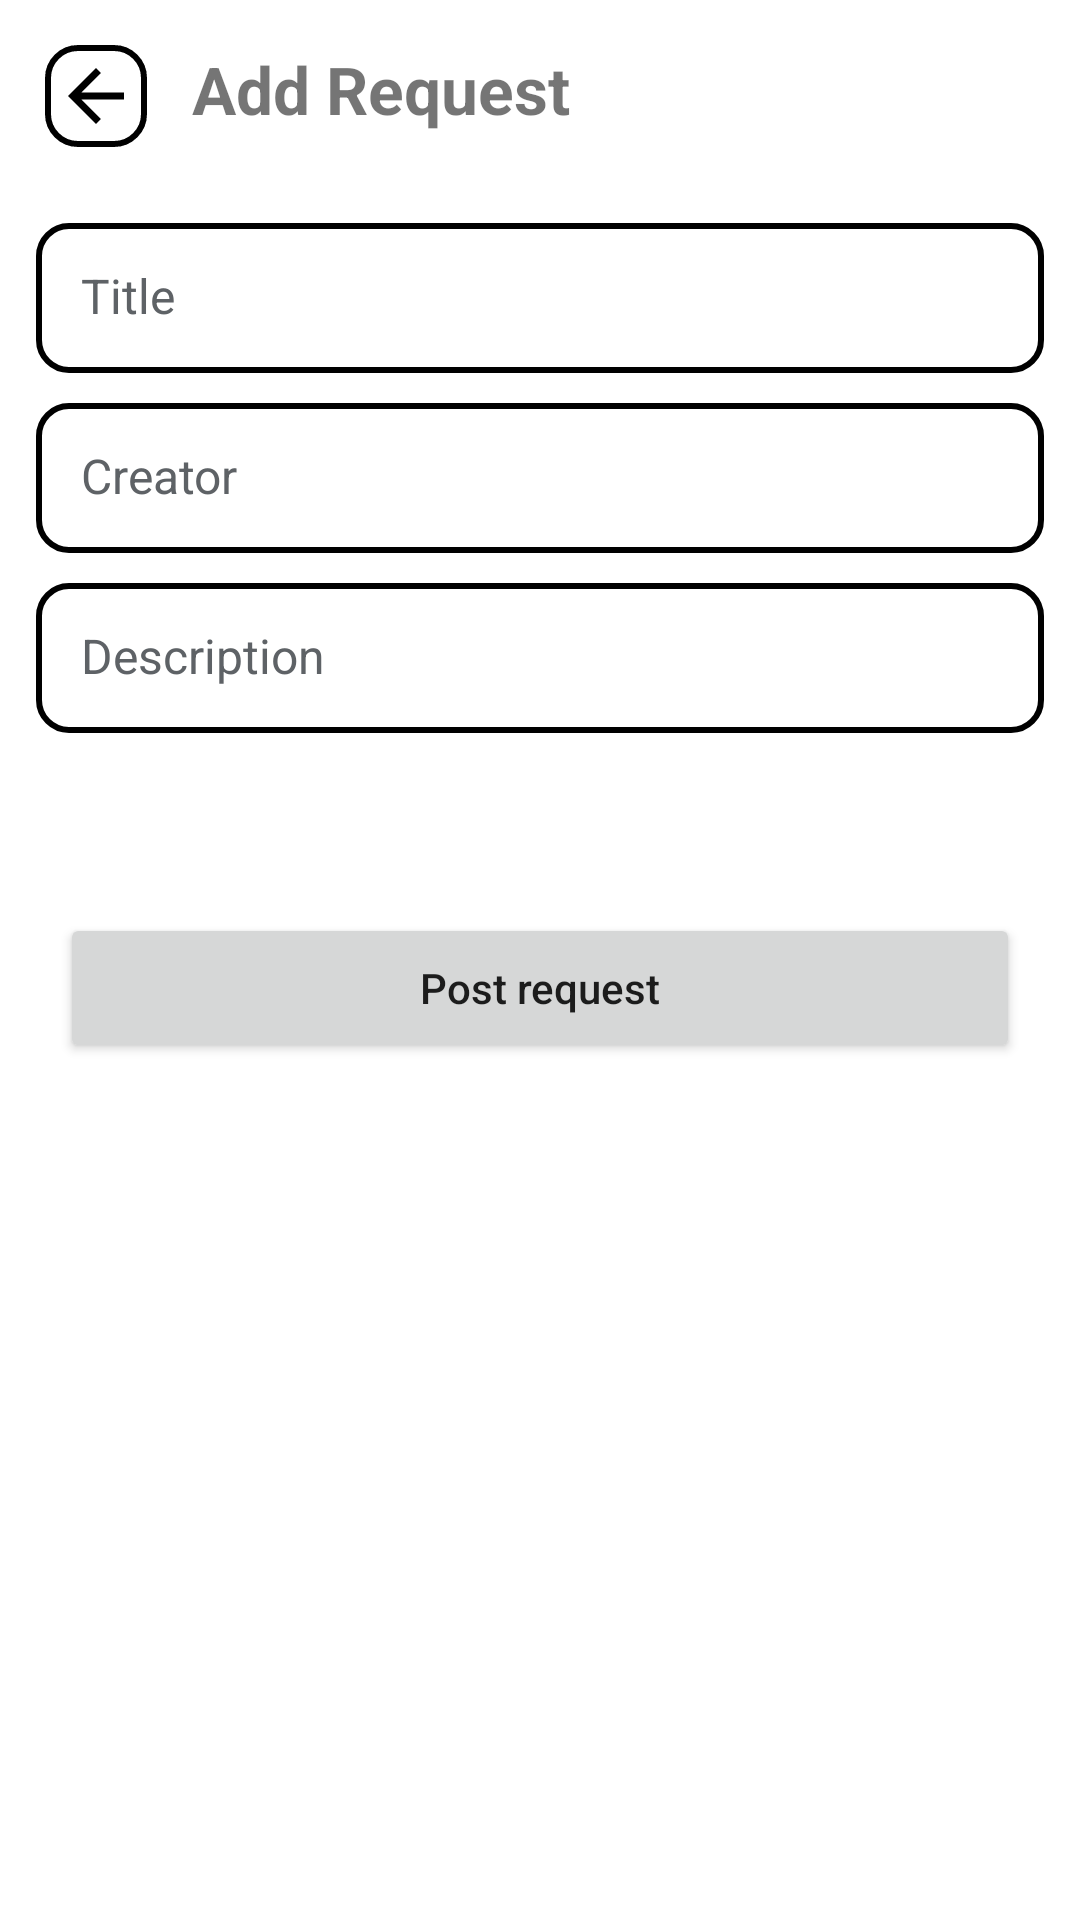

Locate icon controls on the screen. Image size 1080 x 1920, boxes as bbox=[x1, y1, x2, y2].
back: bbox=[45, 45, 147, 147]
